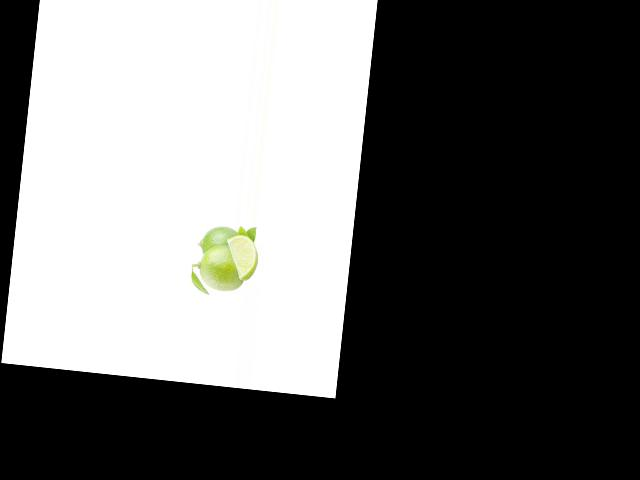lemon: (195, 244, 245, 293)
